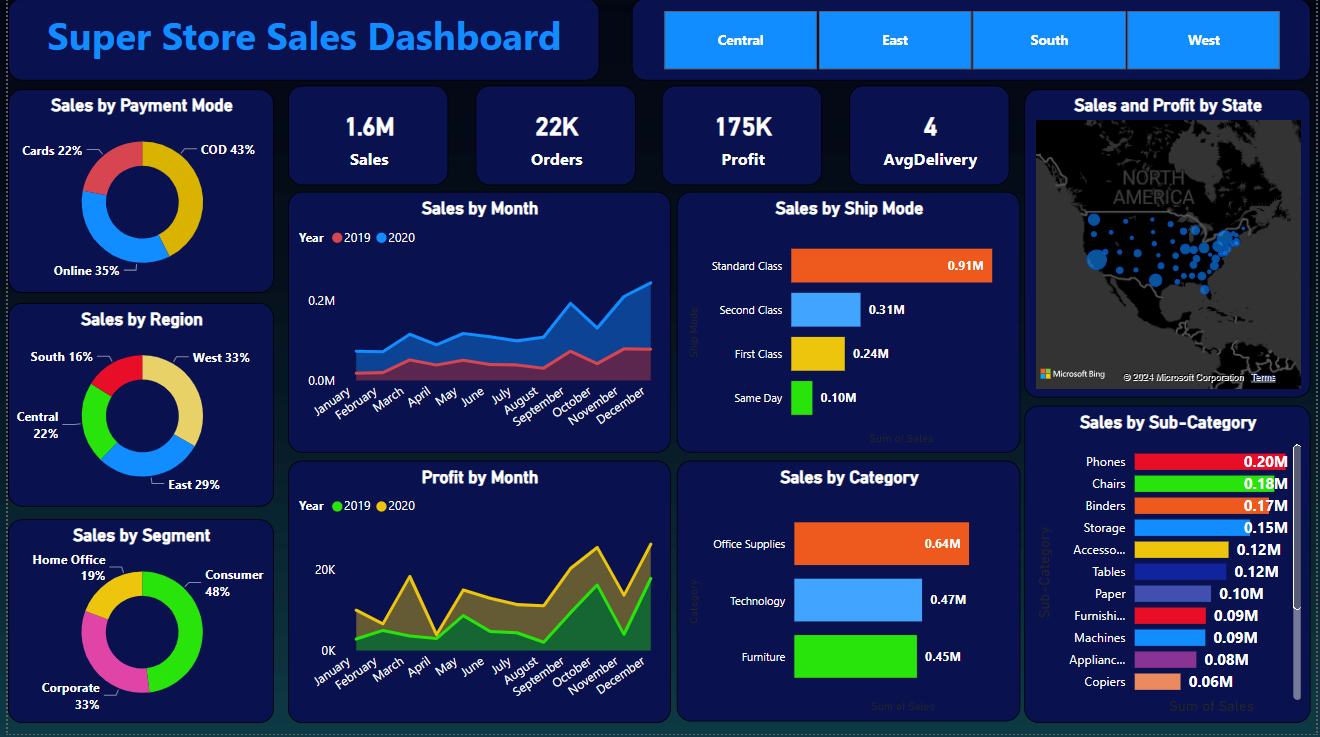

Layout of this report page (visuals, bound fields, positions):
{"tool":"powerbi","page":{"name":"Page 1","canvas":[1280,720],"ordinal":0},"visuals":[{"type":"donutChart","title":"Sales by Payment Mode","fields":{"Y":["Sum(SuperStore_Sales_Dataset.Sales)"],"Category":["SuperStore_Sales_Dataset.Payment Mode"]},"box":[0,89.2,260.4,199.3],"z":0},{"type":"donutChart","title":"Sales by Region","fields":{"Y":["Sum(SuperStore_Sales_Dataset.Sales)"],"Category":["SuperStore_Sales_Dataset.Region"]},"box":[0,298.3,260.4,199.3],"z":1000},{"type":"donutChart","title":"Sales by Segment","fields":{"Y":["Sum(SuperStore_Sales_Dataset.Sales)"],"Category":["SuperStore_Sales_Dataset.Segment"]},"box":[0,509.7,260,199.3],"z":2000},{"type":"stackedAreaChart","title":"Sales by Month ","fields":{"Y":["Sum(SuperStore_Sales_Dataset.Sales)"],"Category":["SuperStore_Sales_Dataset.Order Date.Variation.Date Hierarchy.Month"],"Series":["SuperStore_Sales_Dataset.Order Date.Variation.Date Hierarchy.Year"]},"box":[273.8,189.5,374.1,255.5],"z":3000},{"type":"stackedAreaChart","title":"Profit by Month","fields":{"Category":["SuperStore_Sales_Dataset.Order Date.Variation.Date Hierarchy.Month"],"Series":["SuperStore_Sales_Dataset.Order Date.Variation.Date Hierarchy.Year"],"Y":["Sum(SuperStore_Sales_Dataset.Profit)"]},"box":[273.8,452.3,374.1,256.7],"z":4000},{"type":"barChart","title":"Sales by Ship Mode","fields":{"Y":["Sum(SuperStore_Sales_Dataset.Sales)"],"Category":["SuperStore_Sales_Dataset.Ship Mode"]},"box":[654,189.5,336.2,255.5],"z":5000},{"type":"barChart","title":"Sales by Category","fields":{"Y":["Sum(SuperStore_Sales_Dataset.Sales)"],"Category":["SuperStore_Sales_Dataset.Category"]},"box":[654,452.3,336.2,255.5],"z":6000},{"type":"barChart","title":"Sales by Sub-Category","fields":{"Y":["Sum(SuperStore_Sales_Dataset.Sales)"],"Category":["SuperStore_Sales_Dataset.Sub-Category"]},"box":[993.8,398.5,279.9,310.5],"z":7000},{"type":"map","title":"Sales and Profit by State","fields":{"Category":["SuperStore_Sales_Dataset.State"],"Size":["Sum(SuperStore_Sales_Dataset.Sales)"]},"box":[993.8,89.2,279.9,301.9],"z":8000},{"type":"slicer","fields":{"Values":["SuperStore_Sales_Dataset.Region"]},"box":[610,0,663.8,80.7],"z":9000},{"type":"textbox","box":[0,0,578.2,80.7],"z":10000},{"type":"card","fields":{"Values":["Sum(SuperStore_Sales_Dataset.Sales)"]},"box":[273.8,85.6,156.5,97.8],"z":10001},{"type":"card","fields":{"Values":["Sum(SuperStore_Sales_Dataset.Quantity)"]},"box":[457.2,85.6,156.5,97.8],"z":10002},{"type":"card","fields":{"Values":["Sum(SuperStore_Sales_Dataset.Profit)"]},"box":[639.3,85.6,156.5,97.8],"z":10003},{"type":"card","fields":{"Values":["Avg(SuperStore_Sales_Dataset.AvgDelivery)"]},"box":[822.7,85.6,156.5,97.8],"z":10004}]}

Visuals, with their boxes in screenshot pixels (x1, y1, x2, y2), scaled from the page's 1280x720 canvas onto the 1320x737 screenshot:
"Sales by Payment Mode" donutChart: box(0, 91, 269, 295)
"Sales by Region" donutChart: box(0, 305, 269, 509)
"Sales by Segment" donutChart: box(0, 522, 268, 726)
"Sales by Month " stackedAreaChart: box(282, 194, 668, 456)
"Profit by Month" stackedAreaChart: box(282, 463, 668, 726)
"Sales by Ship Mode" barChart: box(674, 194, 1021, 456)
"Sales by Category" barChart: box(674, 463, 1021, 725)
"Sales by Sub-Category" barChart: box(1025, 408, 1314, 726)
"Sales and Profit by State" map: box(1025, 91, 1314, 400)
slicer - SuperStore_Sales_Dataset.Region: box(629, 0, 1314, 83)
textbox: box(0, 0, 596, 83)
card - Sum(SuperStore_Sales_Dataset.Sales): box(282, 88, 444, 188)
card - Sum(SuperStore_Sales_Dataset.Quantity): box(471, 88, 633, 188)
card - Sum(SuperStore_Sales_Dataset.Profit): box(659, 88, 821, 188)
card - Avg(SuperStore_Sales_Dataset.AvgDelivery): box(848, 88, 1010, 188)
